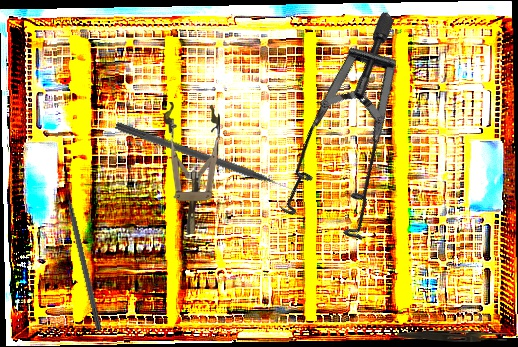Dressing Forceps: (396, 329, 508, 343)
Hook Surgical: (60, 177, 104, 331)
Pusher: (113, 120, 302, 199)
Speculum: (225, 10, 489, 267), (161, 101, 221, 235)
